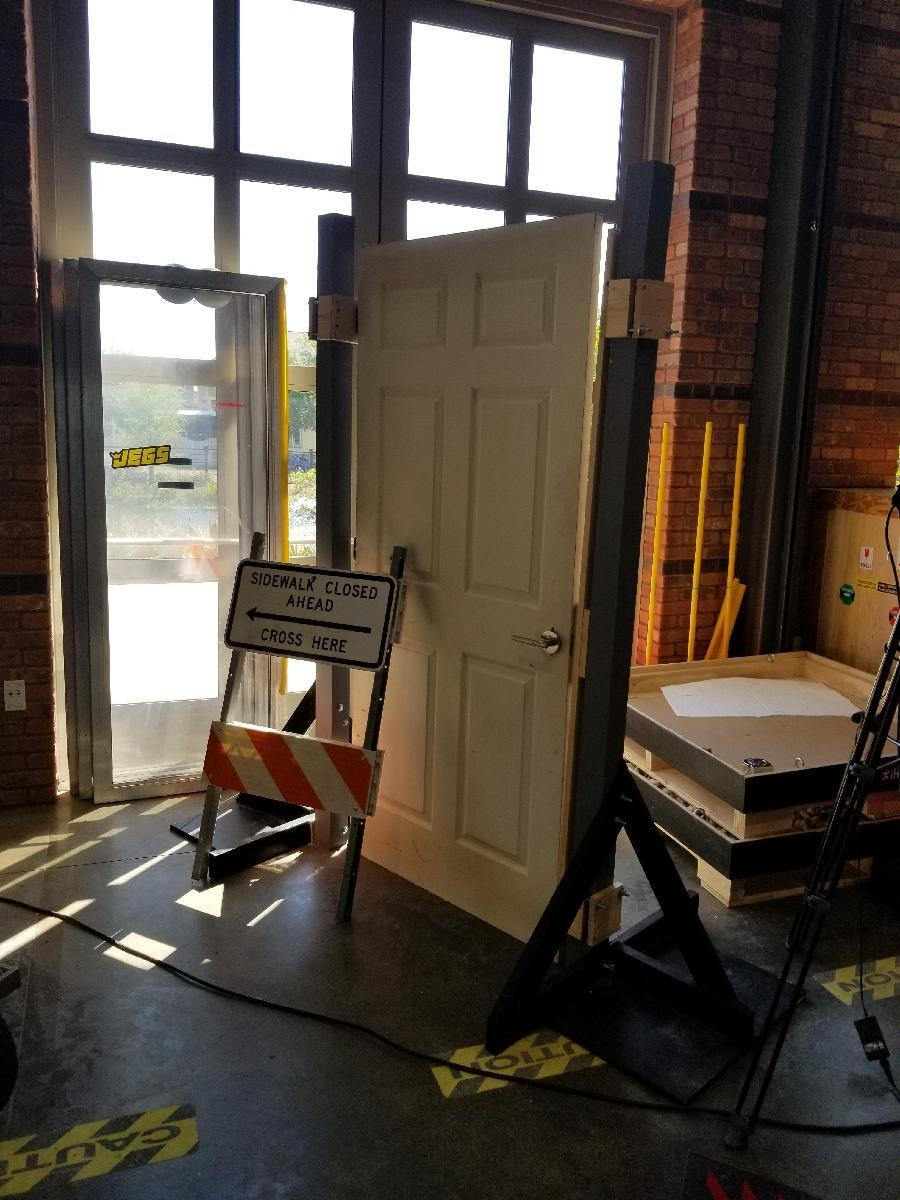door: (354, 209, 602, 970)
handle: (507, 628, 567, 656)
